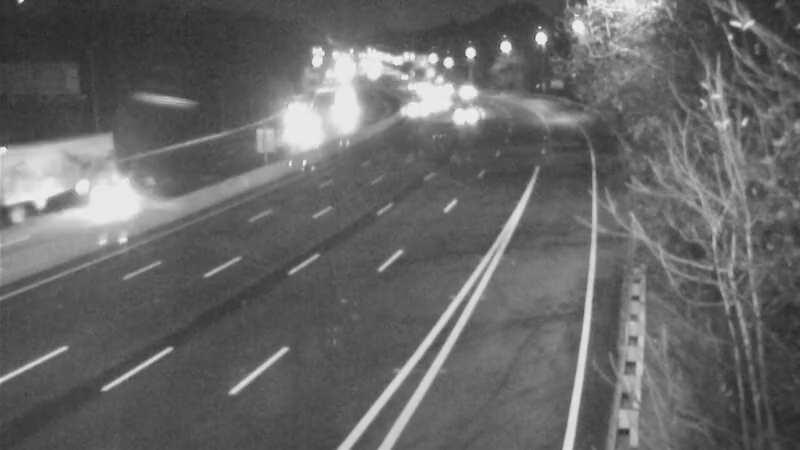vehicle: (74, 154, 154, 234), (1, 155, 68, 235), (445, 65, 495, 115), (390, 83, 440, 133), (438, 92, 488, 142), (286, 102, 336, 152)
